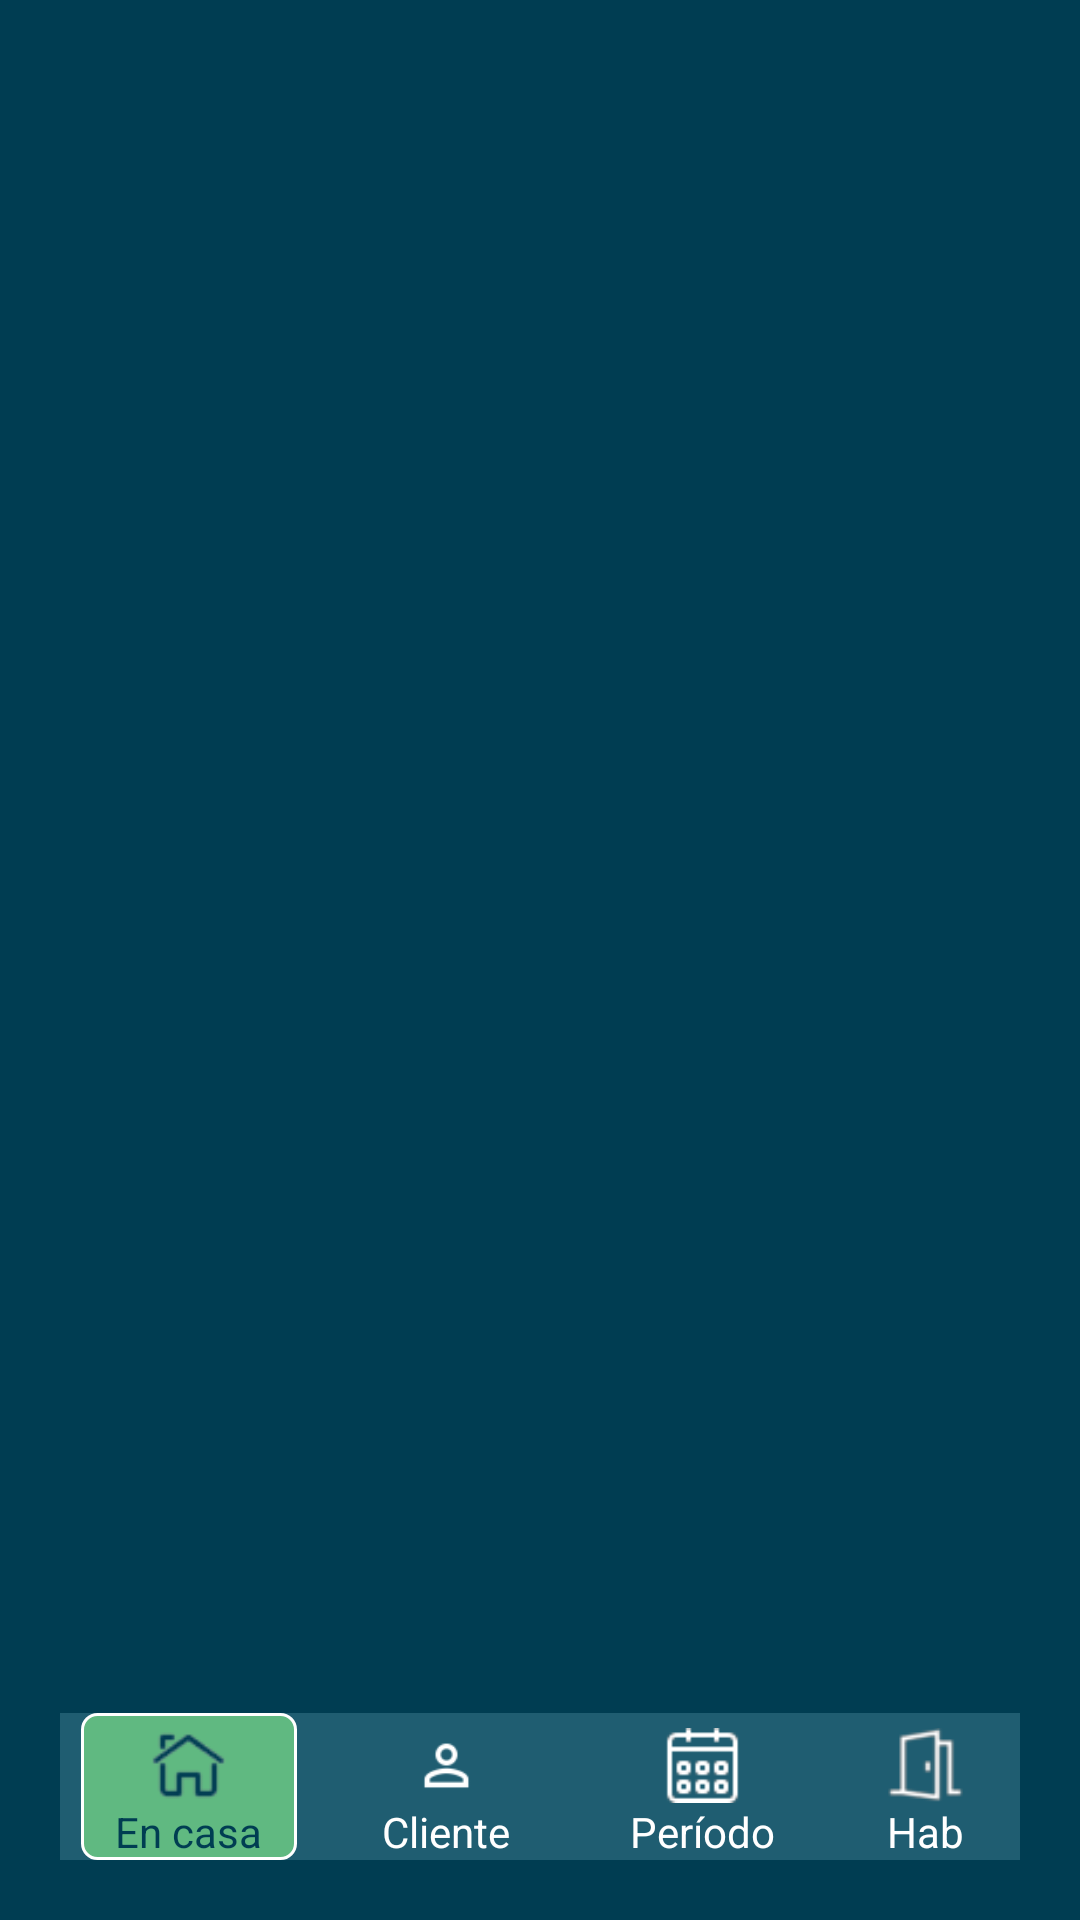

Named icons in this screenshot (1080 x 1920) and their bounding boxes, (x1, y1, x2, y2):
calendario: (666, 1728, 739, 1803)
